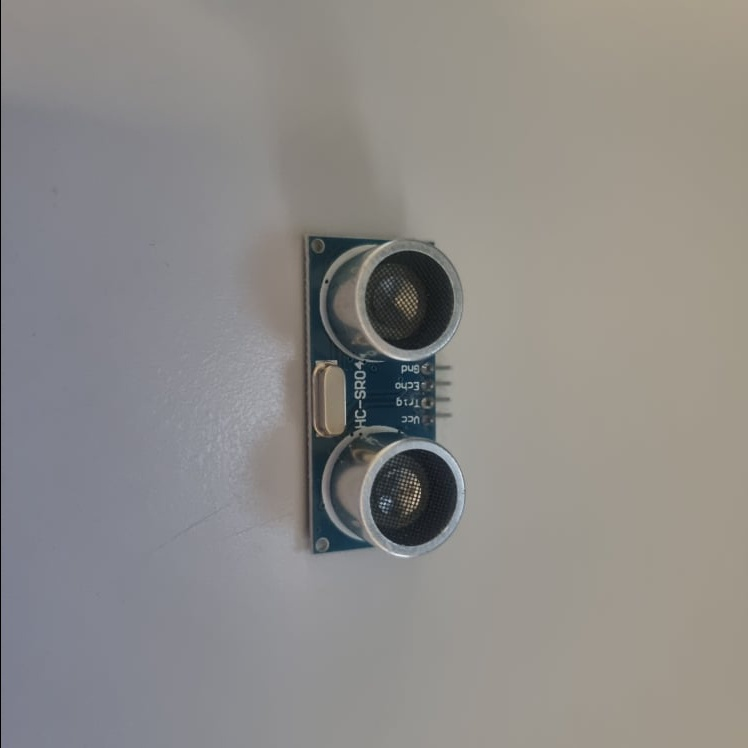SENSOR: (303, 234, 467, 558)
